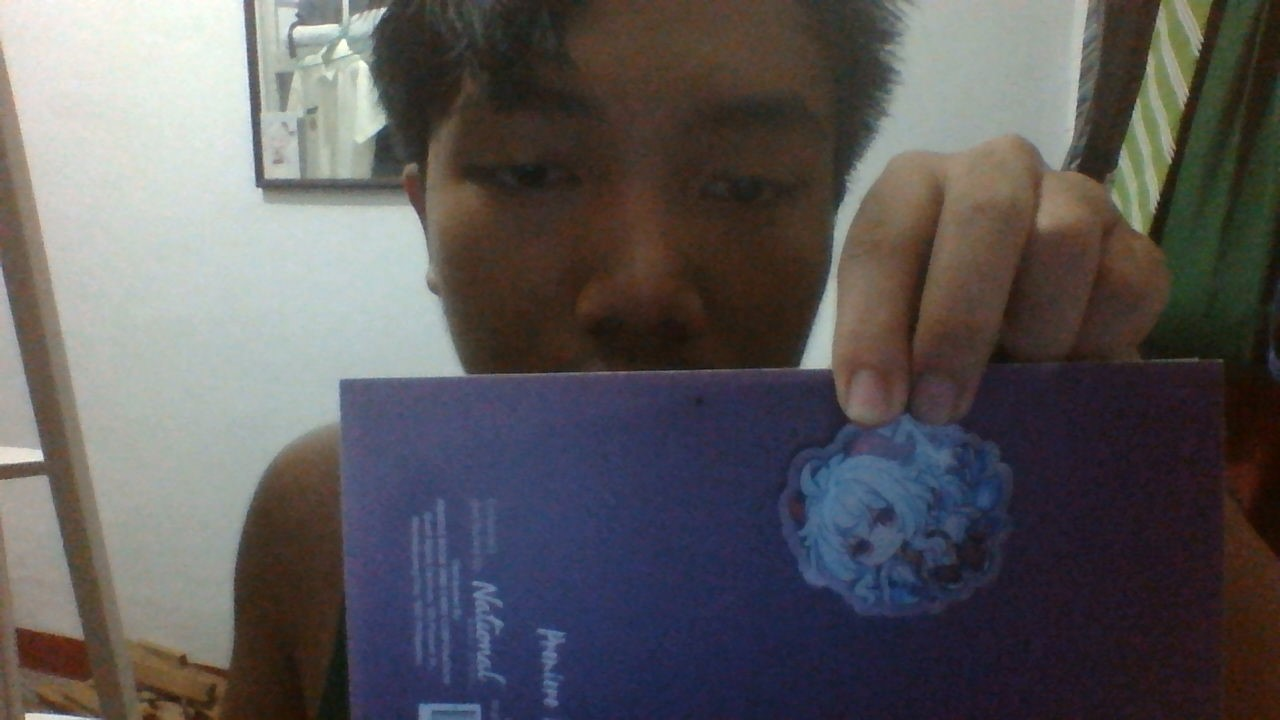Person: (761, 427, 1044, 634)
